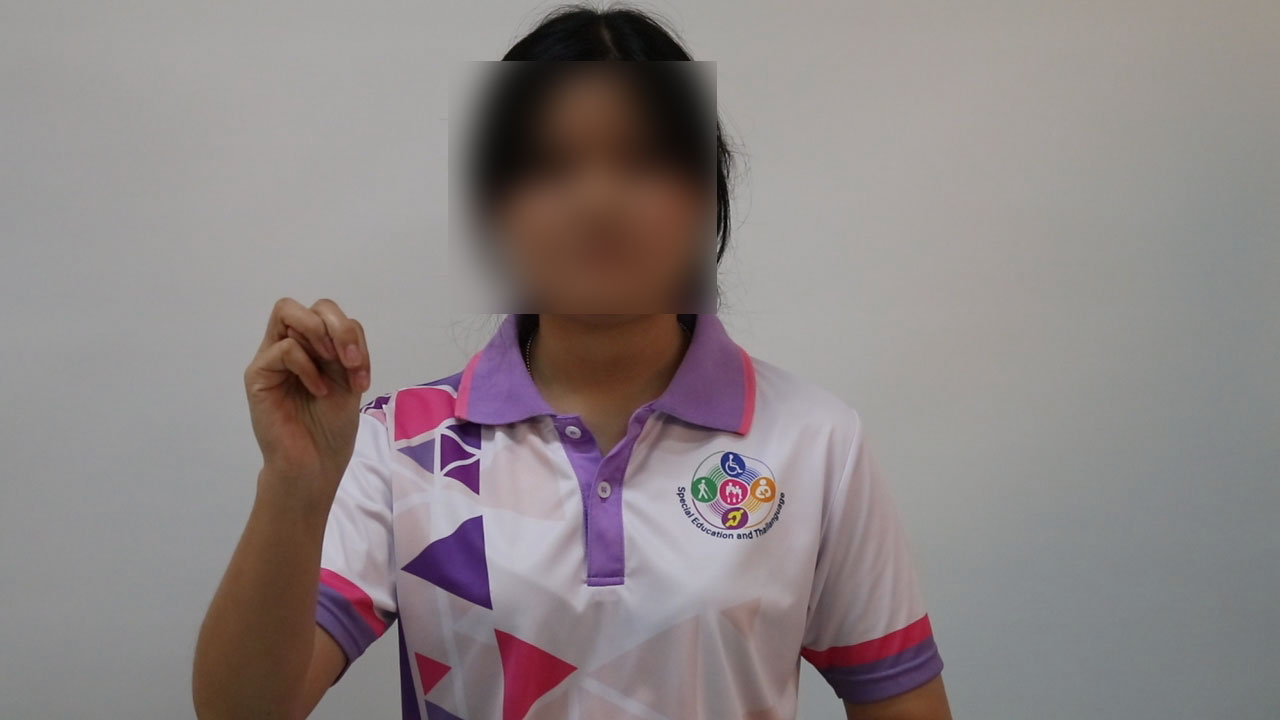mor: (215, 273, 398, 483)
